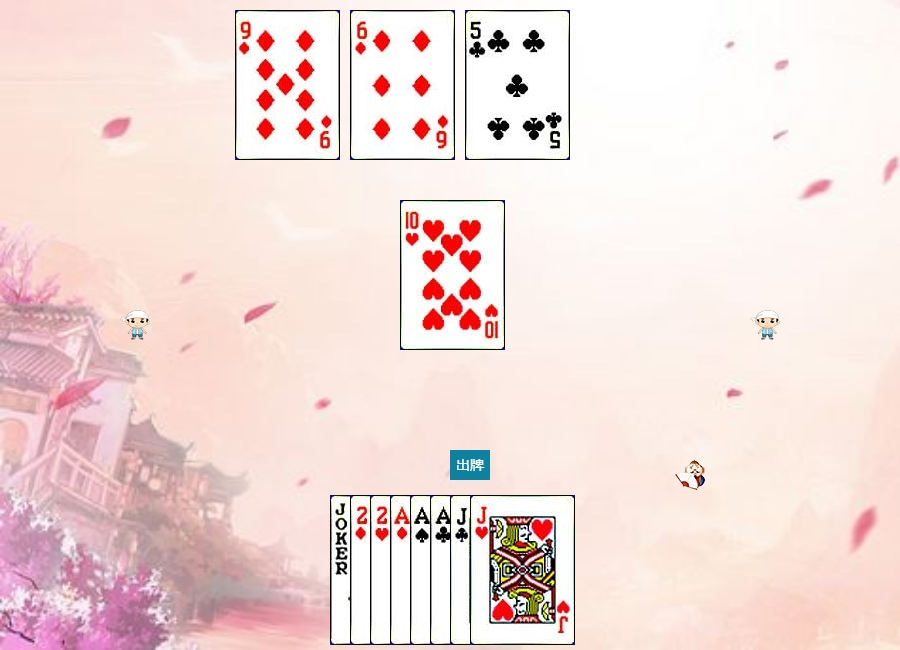10~3: (400, 200, 505, 350)
11~2: (450, 495, 555, 645)
11~3: (470, 495, 575, 645)
14~1: (390, 495, 495, 645)
14~2: (430, 495, 535, 645)
14~4: (410, 495, 515, 645)
15~1: (350, 495, 455, 645)
15~3: (370, 495, 475, 645)
17~3: (330, 495, 435, 645)
5~2: (465, 10, 570, 160)
6~1: (350, 10, 455, 160)
9~1: (235, 10, 340, 160)
